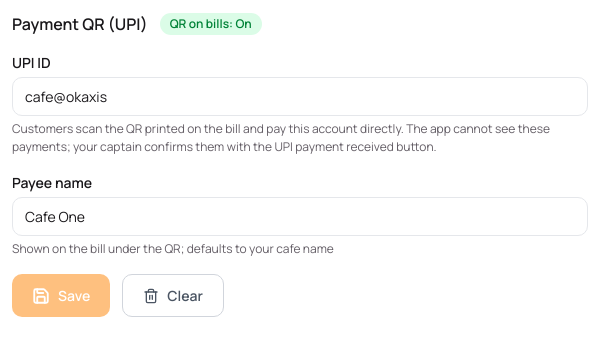
it: PaymentQrSettings › server 400 error is shown under the UPI field
Replace the text in the field labelled "UPI ID" with "abc@bank". click: point(300, 96)
box: top-left (12, 77), bottom-right (588, 116)
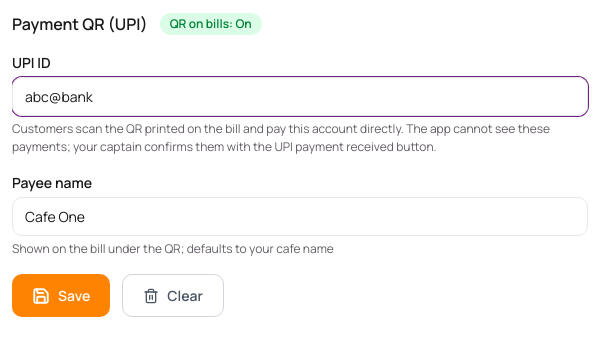
Click the button "Save". click: point(61, 296)
box: top-left (12, 274), bottom-right (110, 317)
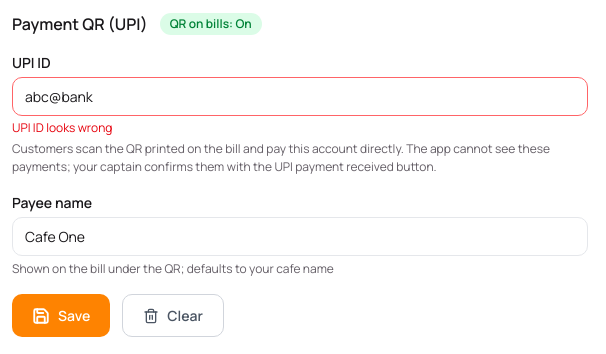
Expected: the text "UPI ID looks wrong" is shown, top-left (12, 119), bottom-right (112, 136)
